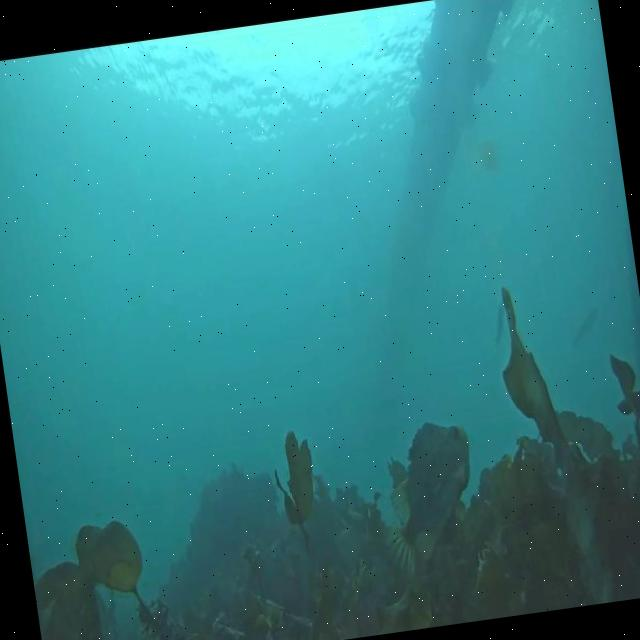fish: (371, 418, 487, 580), (563, 305, 607, 358), (488, 300, 510, 343)
